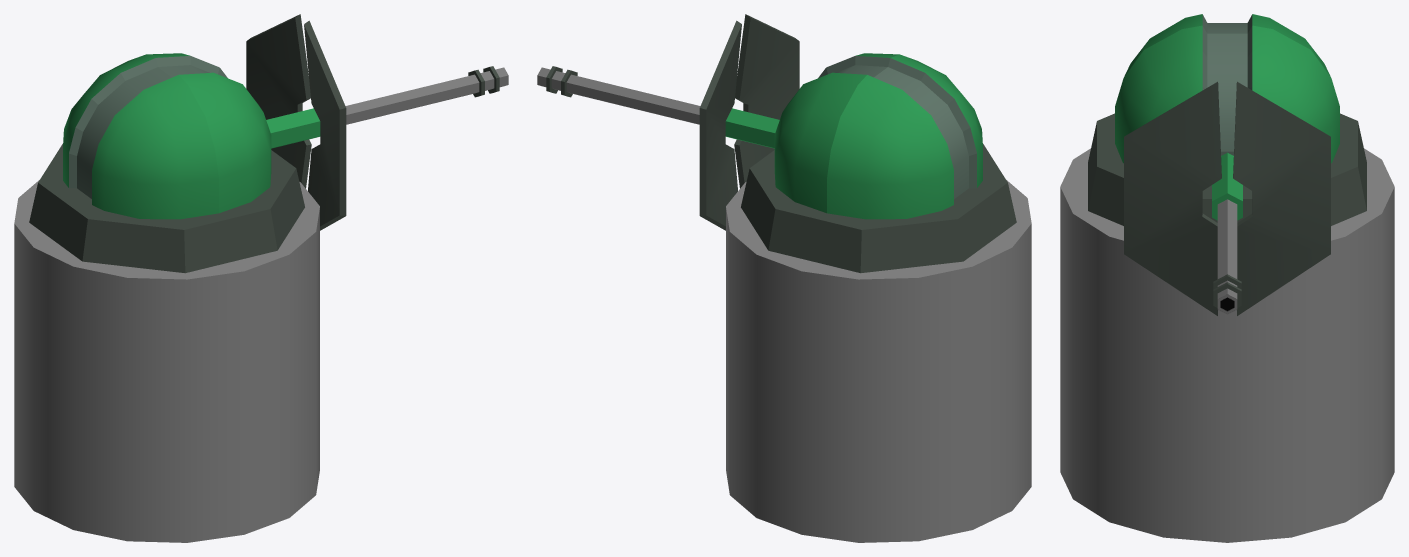
3 renders of one model, left to right at view 1: azimuth 30°, elevation 25°; view 2: azimuth 150°, elevation 25°; view 3: azimuth 270°, elevation 25°, orthographic. The views are drawn at different scales.
Parts seen in each view (by area): view 1: turret_base1, turret, shield; view 2: turret_base1, turret, shield; view 3: turret_base1, shield, turret.
Boxes of the visible parts, bbox=[...] form: turret_base1: bbox=[14, 144, 319, 542]; turret: bbox=[63, 53, 271, 219]; shield: bbox=[246, 14, 508, 230]; turret_base1: bbox=[726, 144, 1031, 542]; turret: bbox=[774, 53, 982, 219]; shield: bbox=[537, 14, 799, 230]; turret_base1: bbox=[1060, 113, 1394, 542]; shield: bbox=[1124, 81, 1330, 315]; turret: bbox=[1115, 14, 1339, 186].
Size of the model in its own units: 3.74 by 3.25 by 2.12.
1 material, 1 textured.
